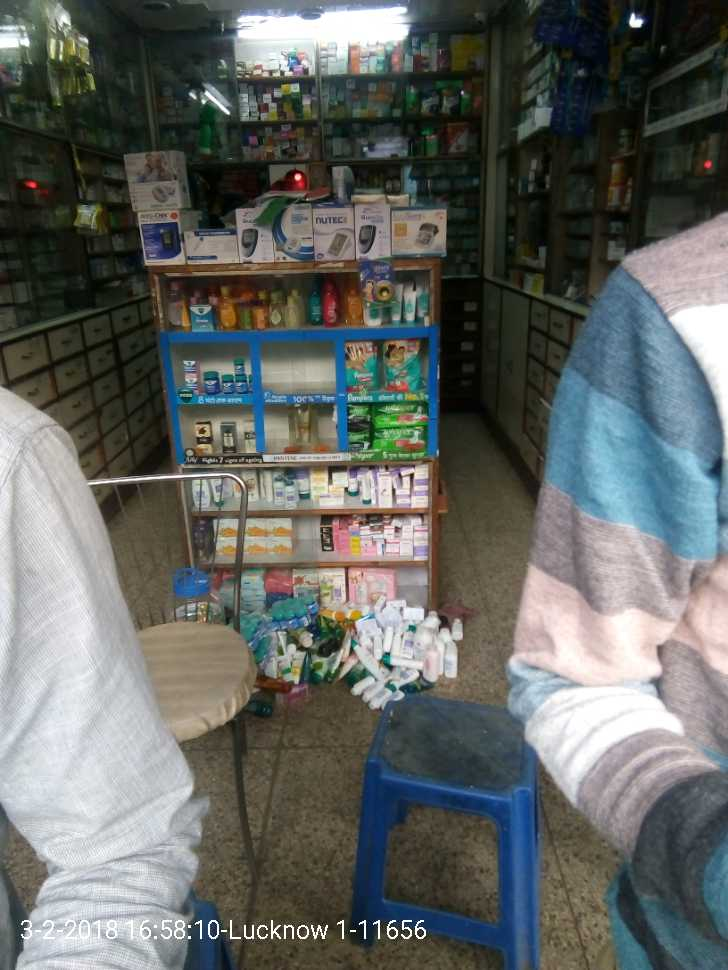vicks: (172, 356, 257, 404)
